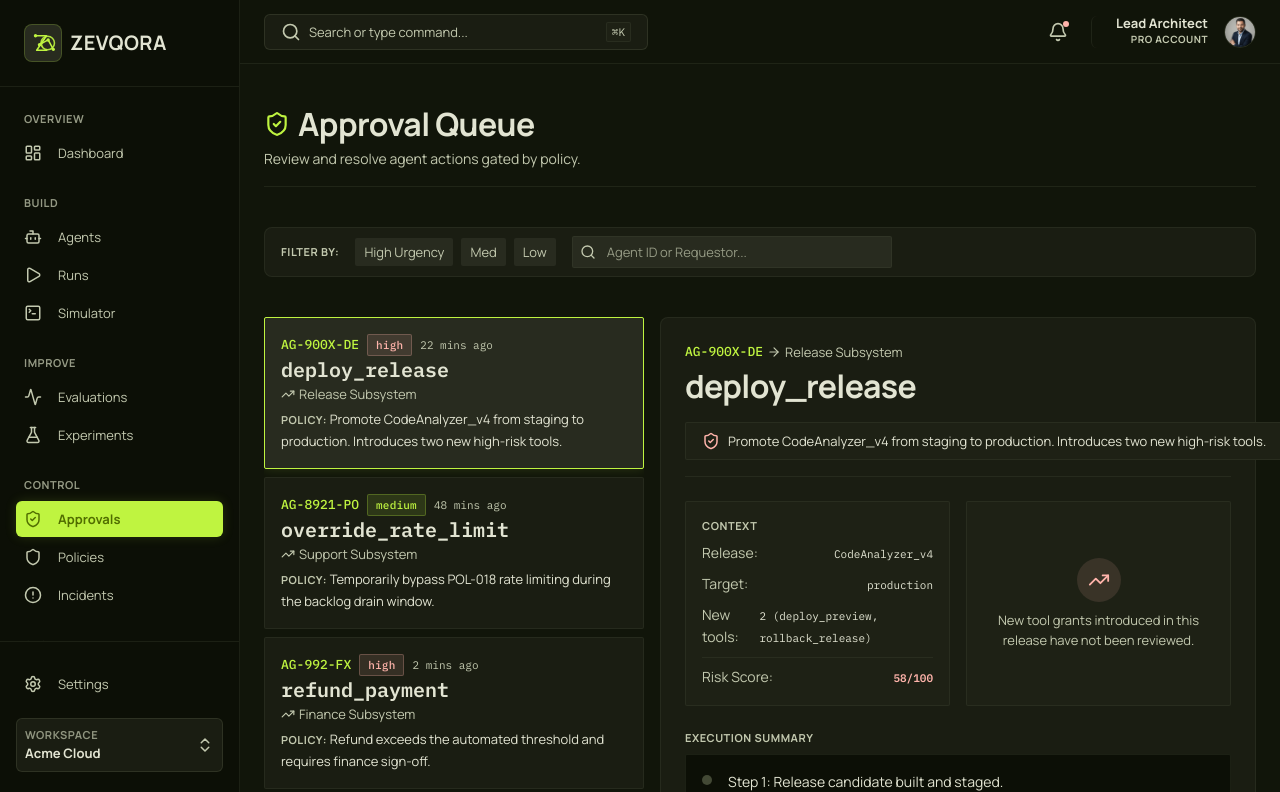
Test case: Approvals › filtering by urgency narrows the queue
Expected: the text "AG-992-FX" is shown, [281,655,351,675]
Click the button "Low" at (535, 252), box [514,238,556,266]
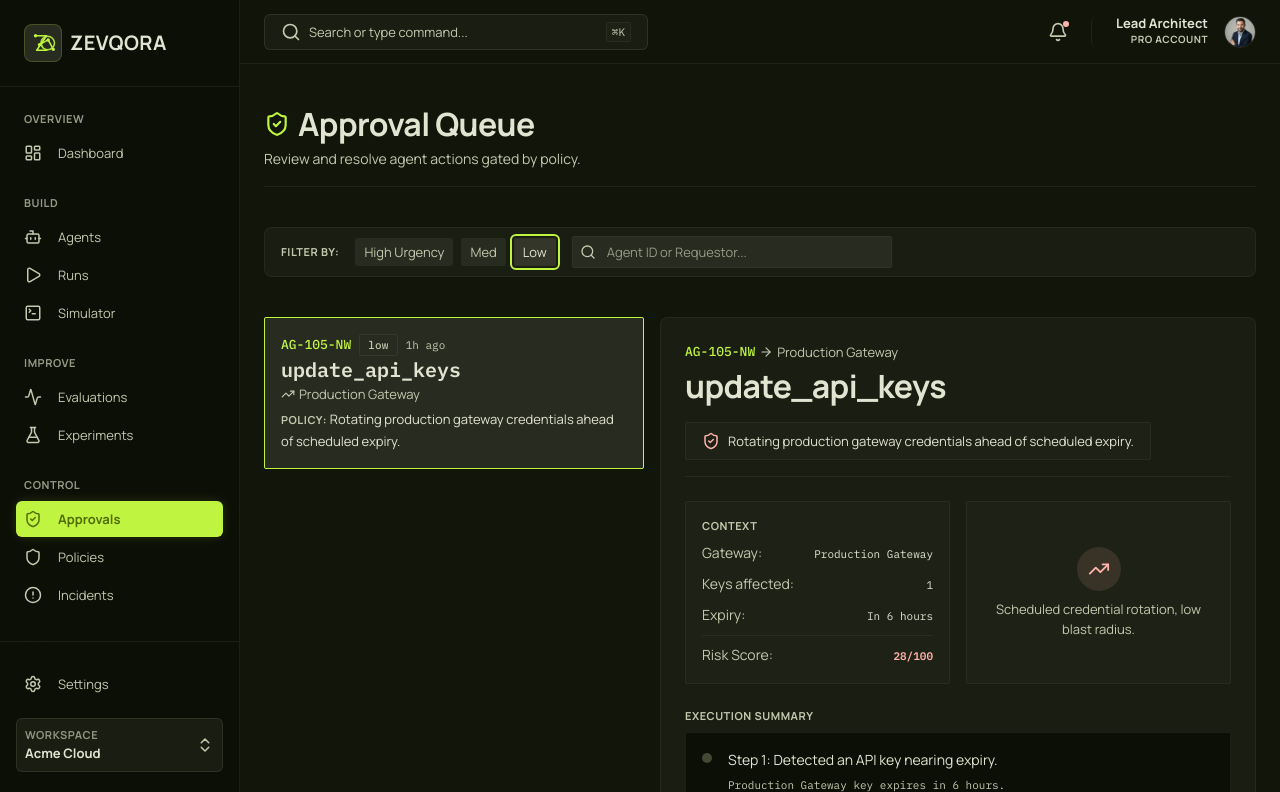
Now the button "AG-992-FX" is gone
